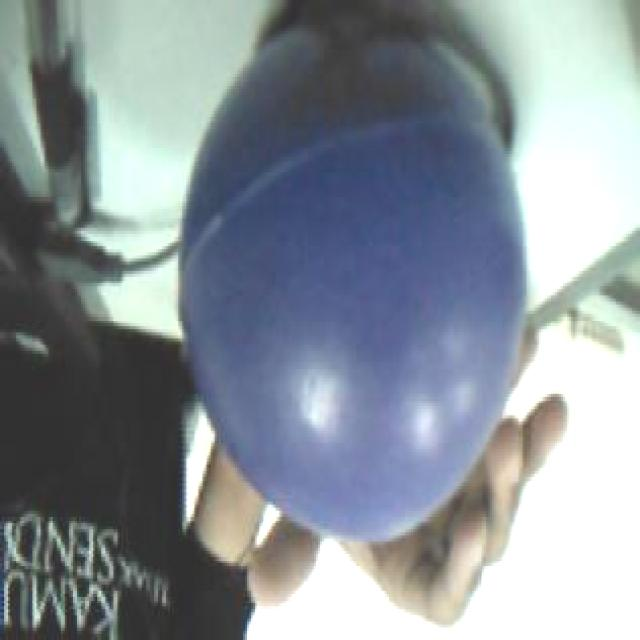BallPurple: (180, 25, 524, 548)
